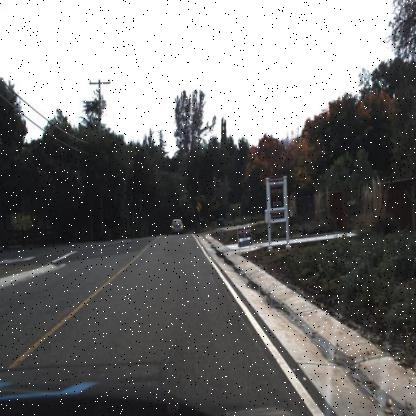car: (168, 214, 184, 237)
